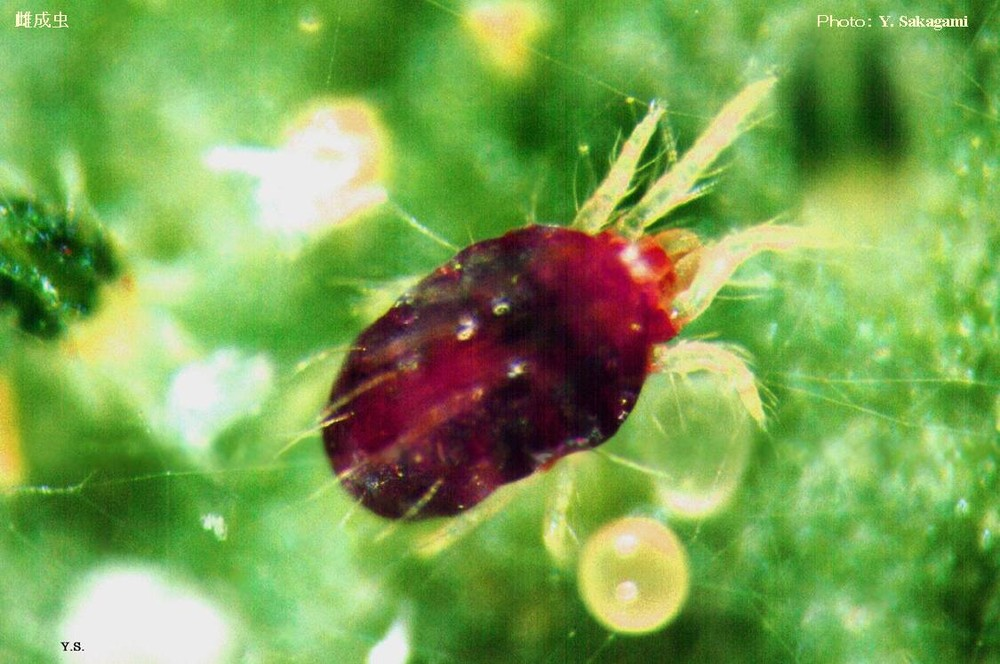Aracnido Rojo: (277, 67, 839, 559)
